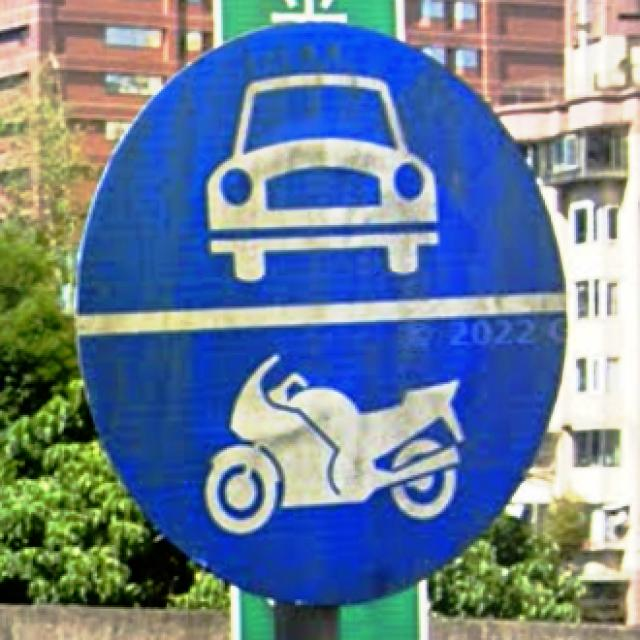carmotorcycle: (76, 25, 564, 604)
